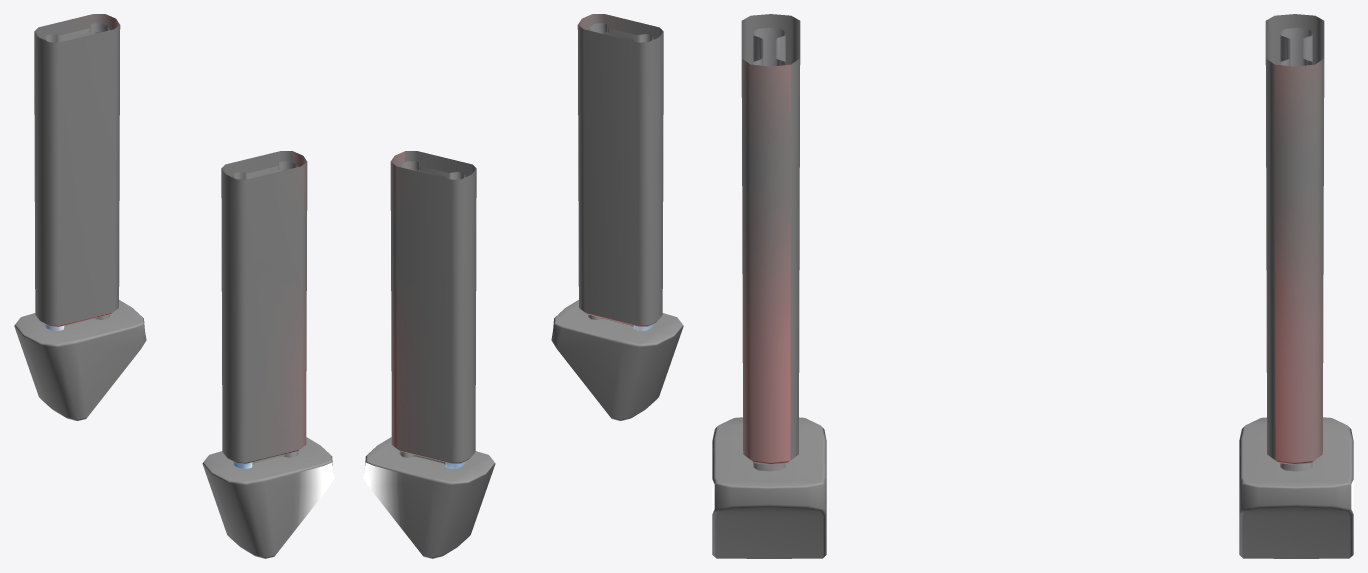
The model's file is SM_CP_Motorcycle01_Stand01.fbx.
The picture shows the model from 3 angles, left to right: view 1: azimuth 30°, elevation 25°; view 2: azimuth 150°, elevation 25°; view 3: azimuth 270°, elevation 25°; orthographic projection. The views are drawn at different scales.
Parts seen in each view (by area): view 1: SM_CP_Motorcycle01_Stand01_LOD0; view 2: SM_CP_Motorcycle01_Stand01_LOD0; view 3: SM_CP_Motorcycle01_Stand01_LOD0.
Boxes of the visible parts, x1,y1,x2,y2 form: SM_CP_Motorcycle01_Stand01_LOD0: (14,14,334,558); SM_CP_Motorcycle01_Stand01_LOD0: (363,14,683,558); SM_CP_Motorcycle01_Stand01_LOD0: (712,14,1353,558).
Size of the model in its own units: 9.81 by 35.63 by 32.28.
